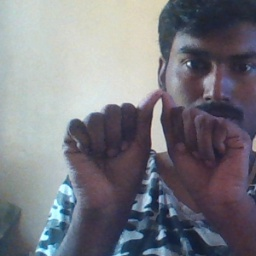A: (61, 89, 254, 207)
